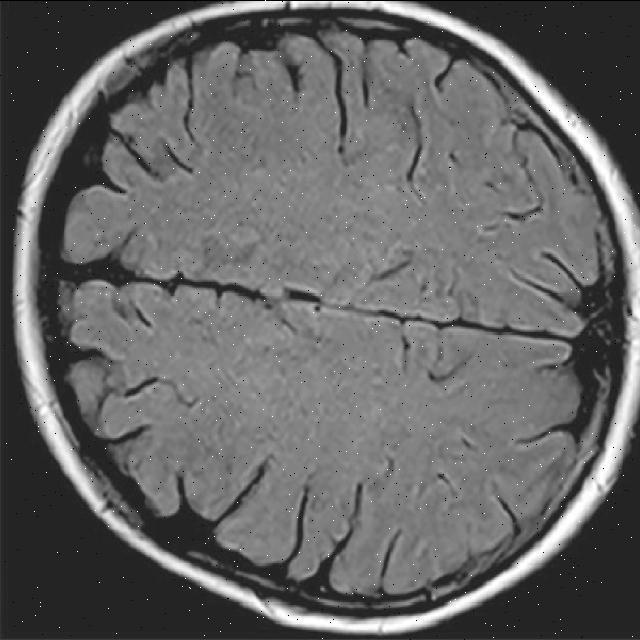No_Tumor: (14, 2, 639, 632)
